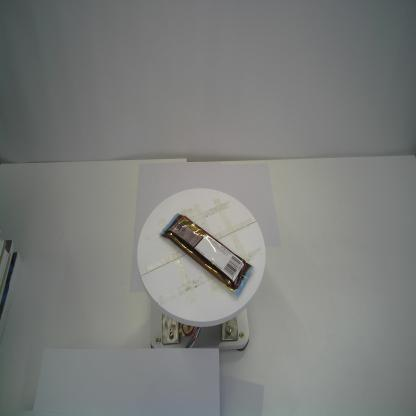Chocolate: (156, 211, 255, 302)
